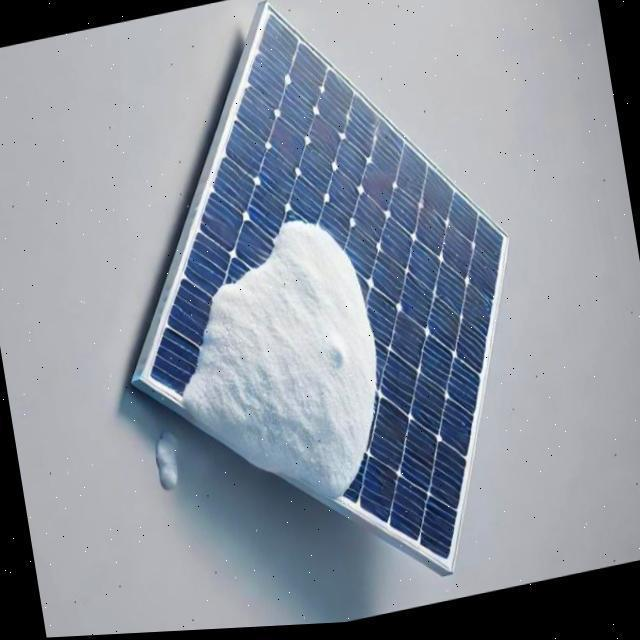Anomaly Solar Panel: (63, 9, 640, 571)
Snow: (160, 203, 434, 506)
